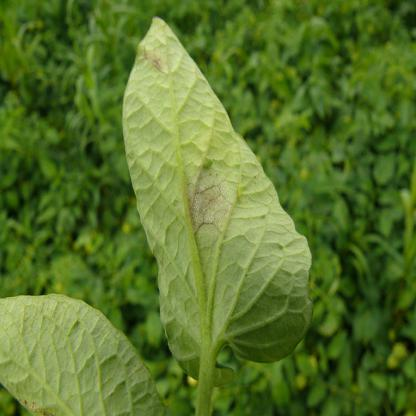tomato leaf late blight: (117, 10, 325, 393)
